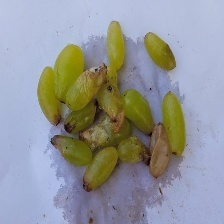grapes: (21, 44, 182, 208)
